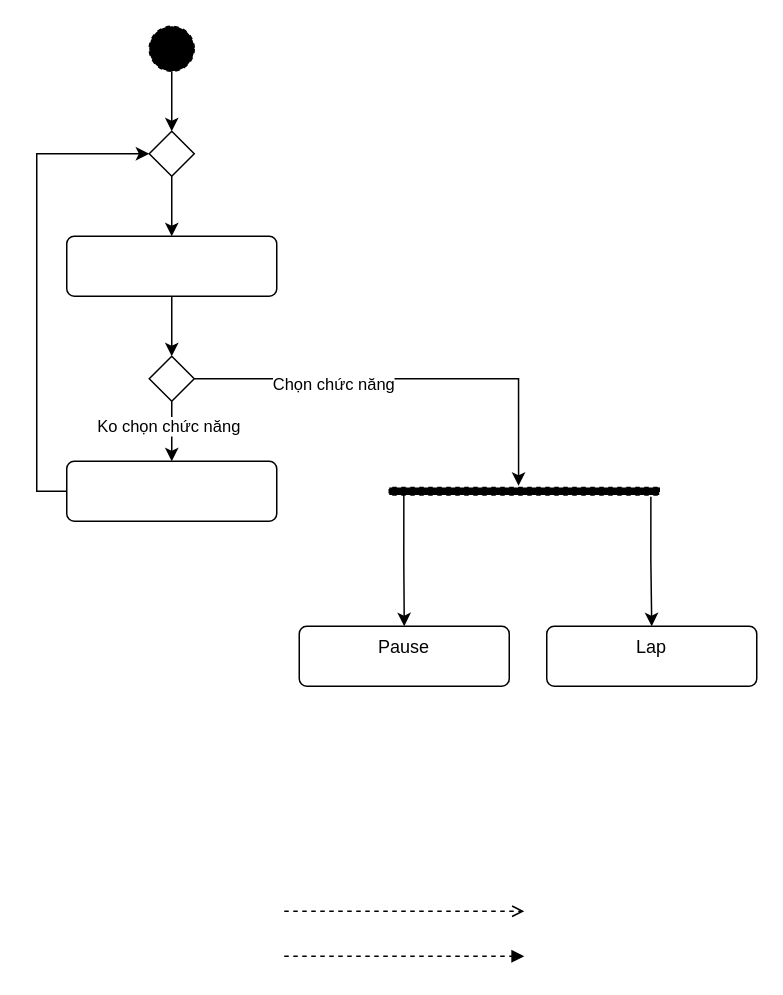
Some shapes in this 783 by 995 pixel diagram are drawn without their labels. Each missing label, with the centre of its shape:
"Chờ 10ms" belongs at pixel 171 490.
"Hiển thị nút Pause và Lap" belongs at pixel 171 265.
